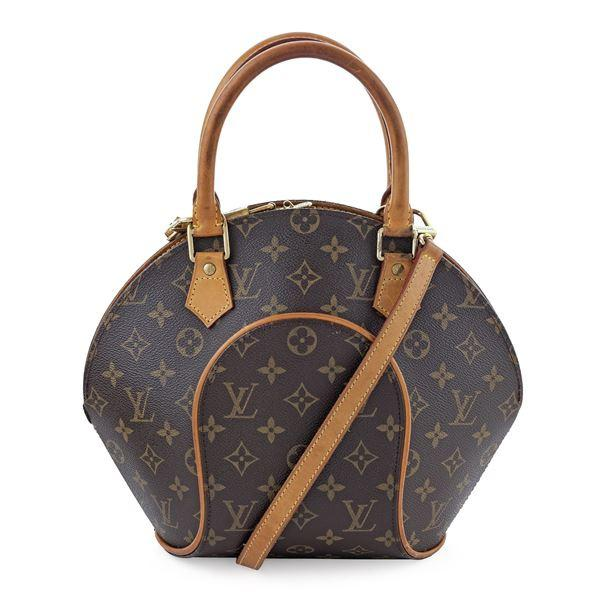LOUIS-VUITTON: (86, 199, 527, 564)
